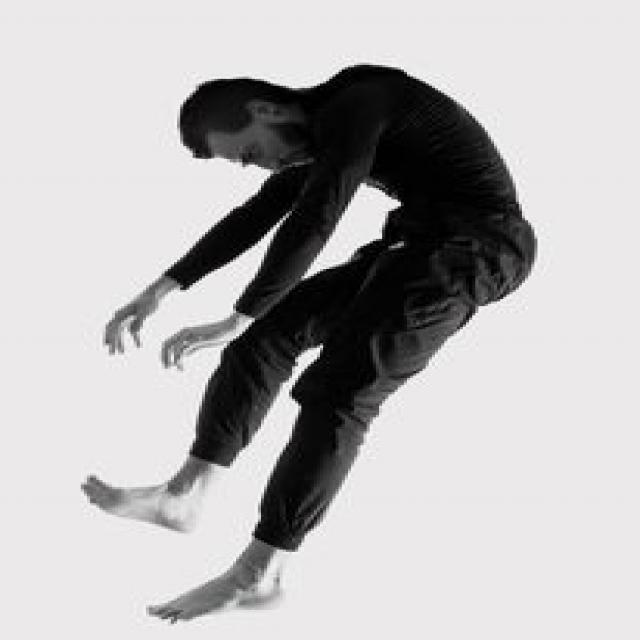fall: (79, 62, 541, 631)
